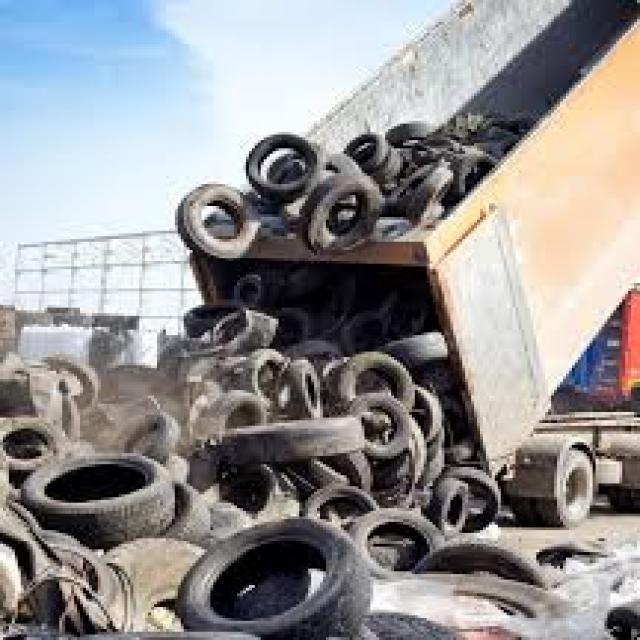Rubber -Non-Biodegradable but Recyclable-: (0, 268, 584, 637), (162, 108, 515, 268)
